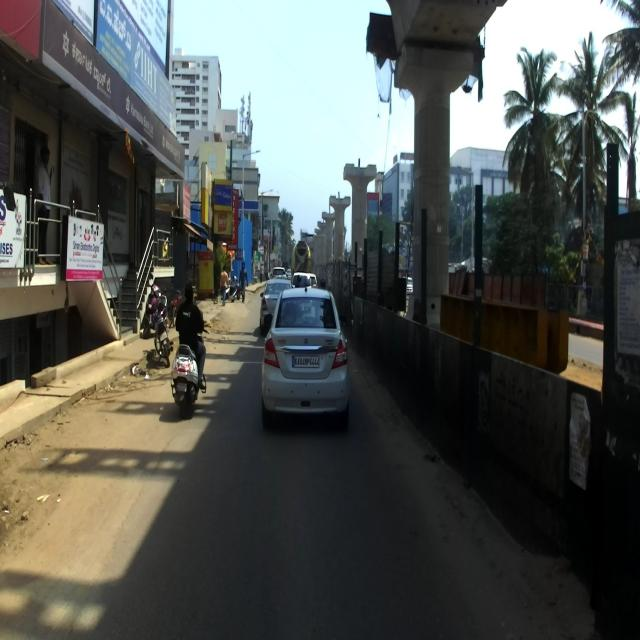Car_Maruti-Suzuki: (260, 277, 346, 429)
Car_Toyota: (260, 274, 292, 328)
scooter: (166, 320, 208, 420), (142, 279, 168, 337)
